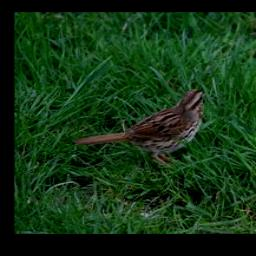Sparrow: (73, 84, 210, 167)
